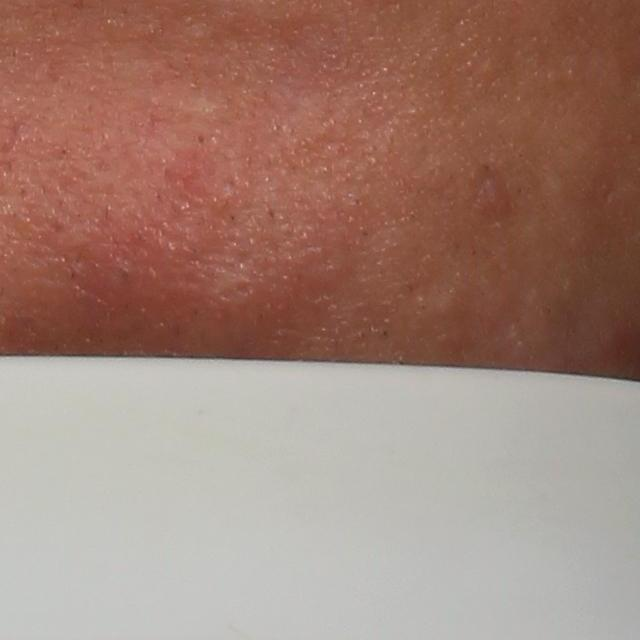hypertrophic_scar: (171, 98, 231, 125)
papule: (475, 176, 519, 221)
